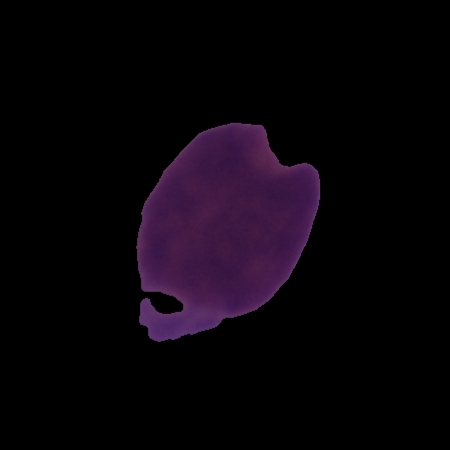ALL: (133, 120, 323, 344)
